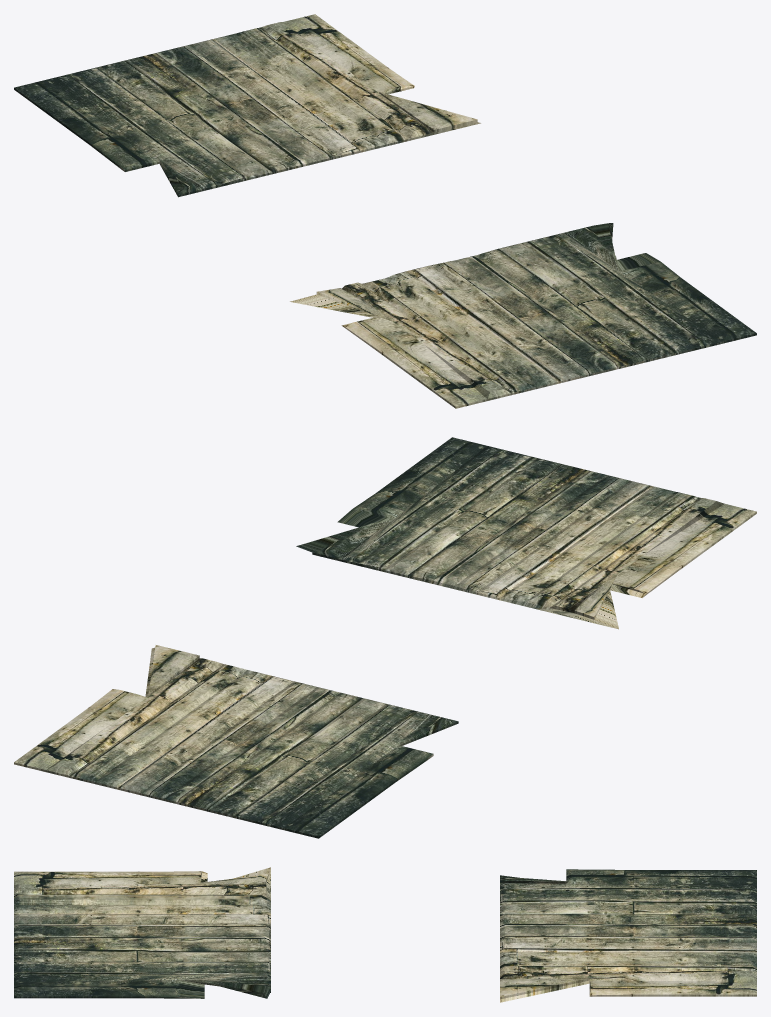
The model's file is OutsideFloor.fbx.
The picture shows the model from 3 angles, top to bottom: view 1: azimuth 30°, elevation 25°; view 2: azimuth 150°, elevation 25°; view 3: azimuth 270°, elevation 25°; orthographic projection. The views are drawn at different scales.
Parts seen in each view (by area): view 1: pCube60; view 2: pCube60; view 3: pCube60.
Part boxes in pixels (x1=…): pCube60: x1=14, y1=14, x2=756, y2=408; pCube60: x1=14, y1=437, x2=756, y2=838; pCube60: x1=14, y1=867, x2=756, y2=1002.
Bounding box in the file's own units: 572 × 9.78 × 1325.
